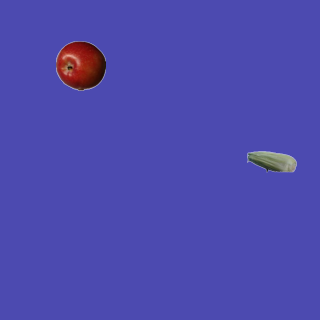Apple Braeburn: (55, 40, 105, 90)
Corn Husk: (246, 136, 296, 186)
